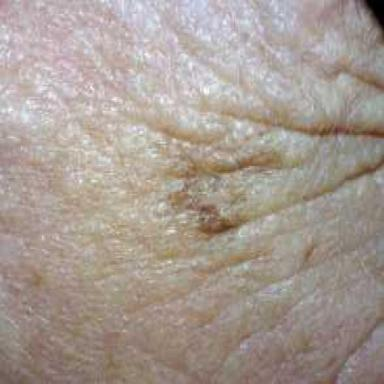Melanoma: (167, 149, 283, 235)
